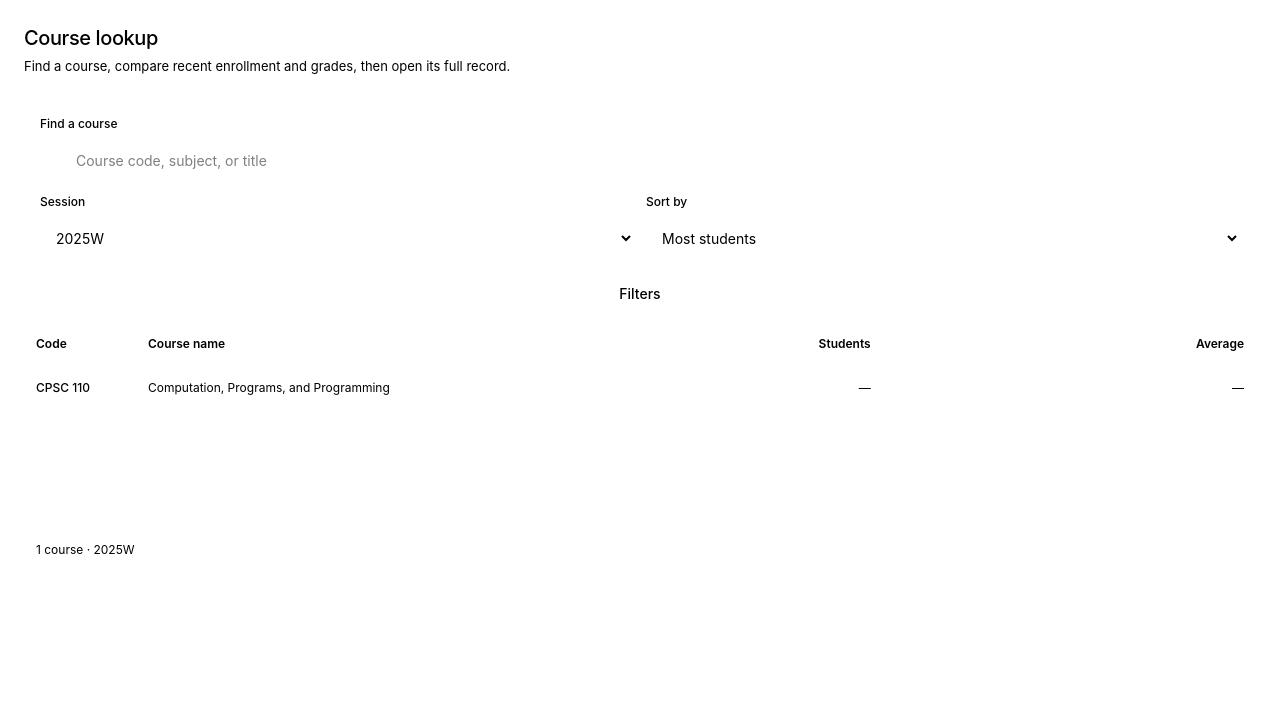
Test: course-lookup-pane — tools-mode list/detail split › tools mode keeps a complete-code miss for CPSC 999 empty
Expected: the button "CPSC 110" is shown, [30,366,96,410]
In the field labelled "Find a course": (640, 160) [40,138,1240,182], type "CPSC 999"
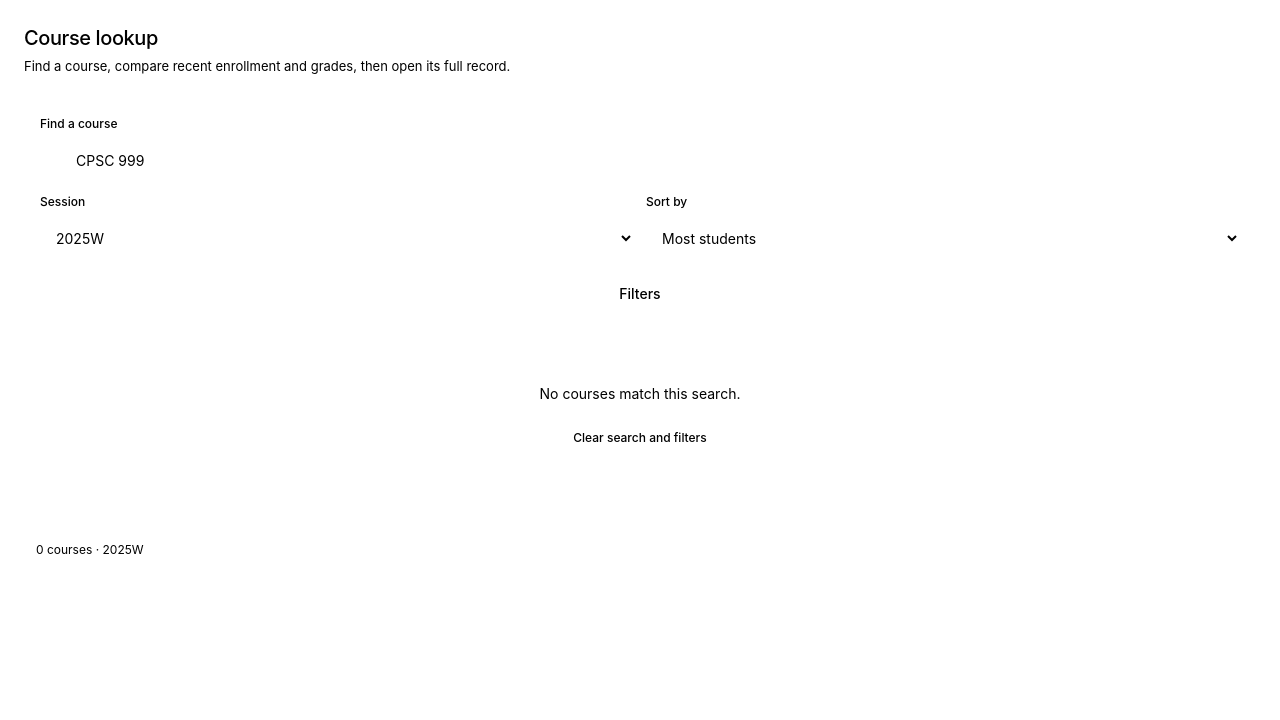
Expected: the text "No courses match this search." is shown, [540,384,740,404]
Expected: the table is gone
